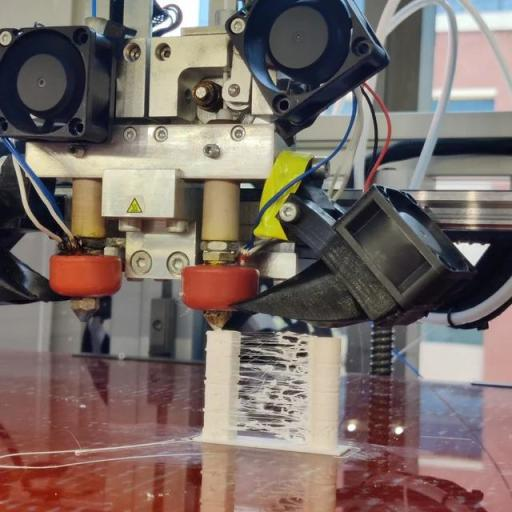stringing: (230, 328, 324, 442)
